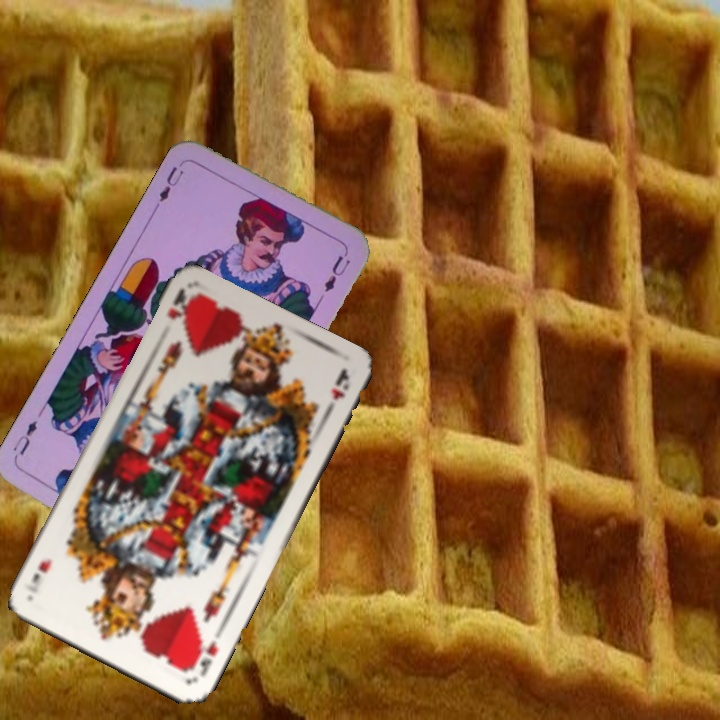EU: (155, 157, 188, 205)
HK: (183, 629, 224, 680), (163, 284, 195, 322)
